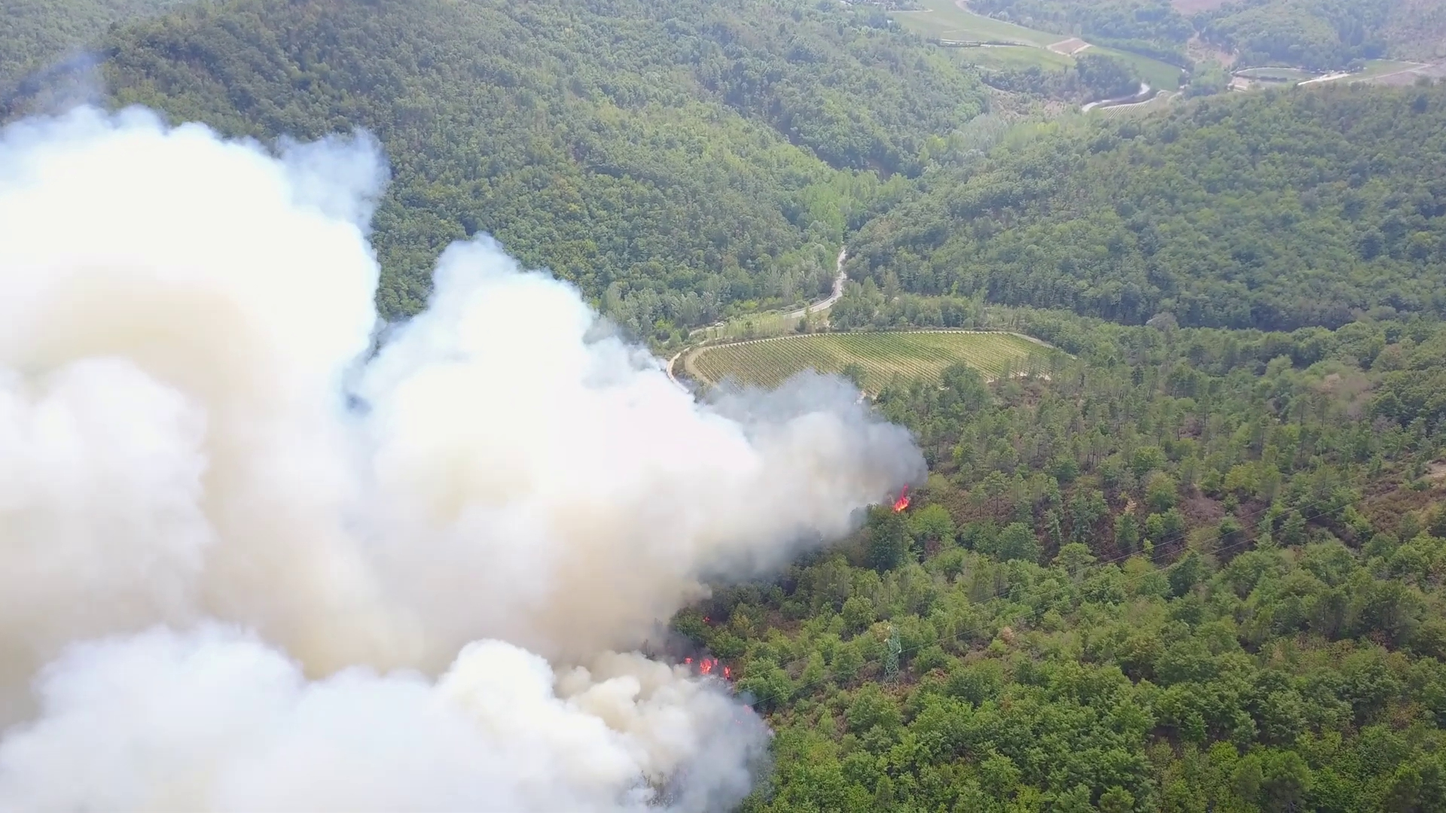forest_fire: (679, 652, 734, 693), (892, 486, 908, 513)
